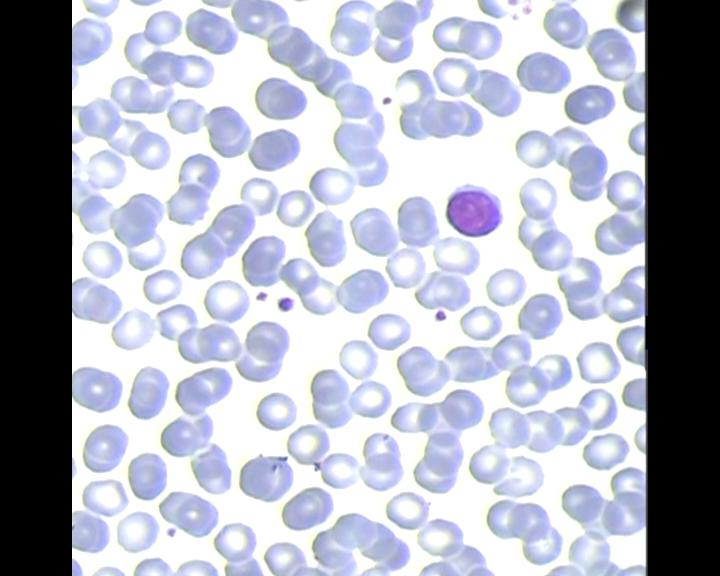lymp: (444, 181, 503, 241)
